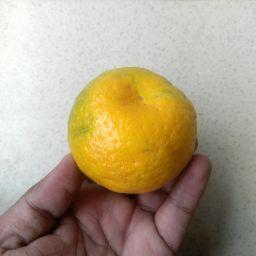orange: (67, 66, 198, 195)
